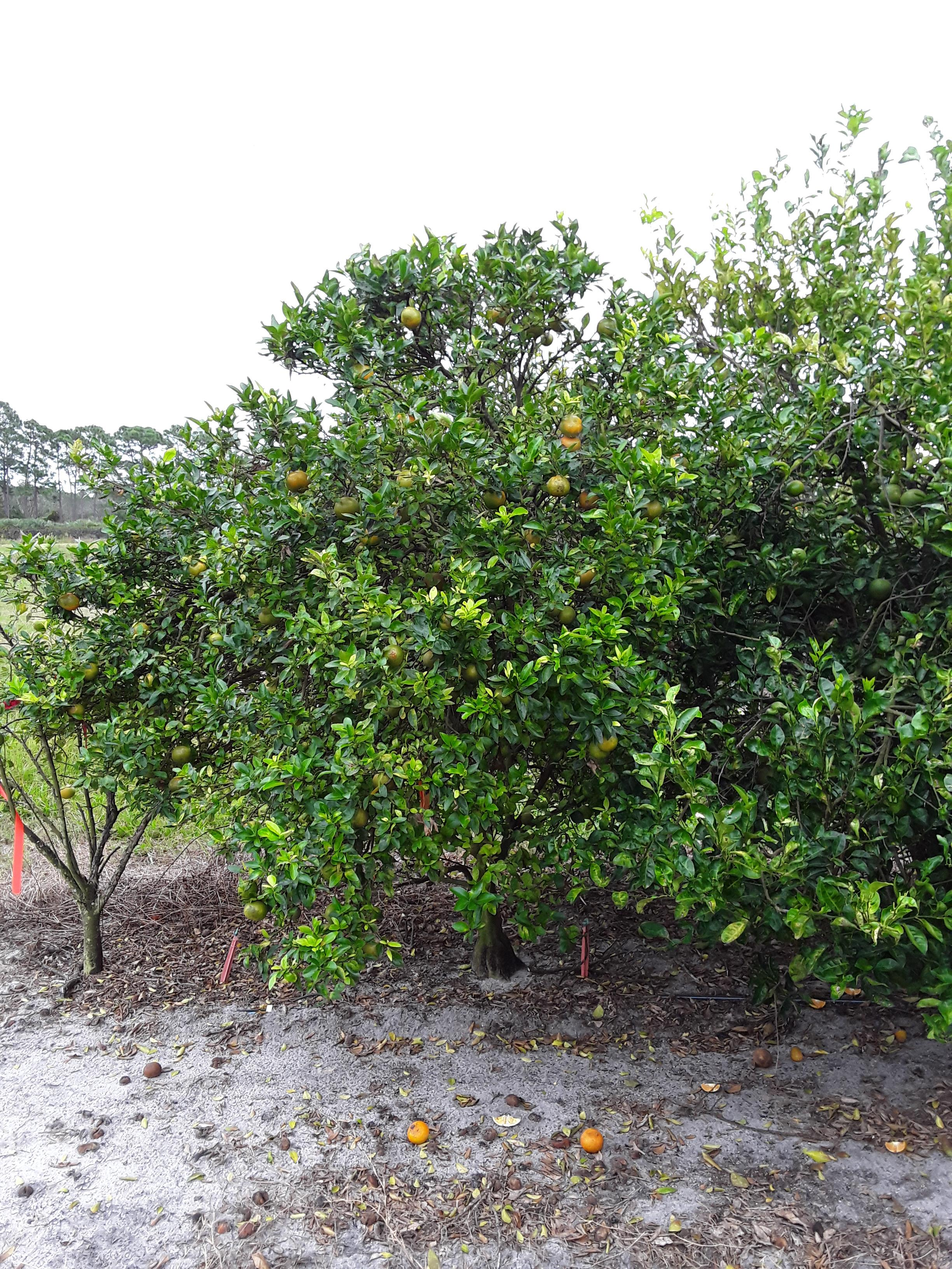fruit_on_ground: (332, 495, 361, 522), (285, 470, 312, 495), (867, 576, 894, 600), (558, 414, 583, 439), (380, 644, 405, 668), (545, 474, 571, 497), (355, 526, 383, 547), (482, 487, 507, 510), (400, 306, 425, 329), (902, 488, 928, 510), (243, 900, 268, 922), (348, 363, 374, 384), (575, 564, 598, 587), (879, 482, 901, 506), (586, 740, 610, 762), (360, 940, 385, 961), (487, 305, 513, 325), (130, 619, 152, 641), (414, 647, 436, 669), (396, 469, 419, 490), (596, 731, 619, 752), (56, 592, 80, 612), (170, 744, 194, 764), (556, 604, 578, 625), (79, 661, 101, 682), (349, 807, 370, 829), (517, 529, 542, 547), (577, 490, 599, 510), (257, 607, 278, 627), (493, 685, 514, 705), (559, 437, 585, 453), (785, 478, 808, 496), (463, 662, 481, 684), (168, 774, 190, 792), (188, 560, 208, 579), (644, 501, 665, 519), (425, 572, 446, 590), (436, 613, 455, 632), (597, 318, 616, 337), (395, 413, 416, 430), (56, 785, 77, 801), (143, 671, 161, 689), (67, 702, 84, 718), (539, 332, 554, 346), (210, 633, 223, 646)
fruit_on_tree: (579, 1127, 605, 1154), (407, 1120, 430, 1146), (750, 1047, 775, 1070), (490, 1113, 522, 1128), (143, 1062, 163, 1078), (885, 1141, 907, 1153), (791, 1045, 805, 1063), (806, 998, 826, 1010), (894, 1029, 908, 1044), (843, 986, 862, 996), (701, 1083, 720, 1092)
